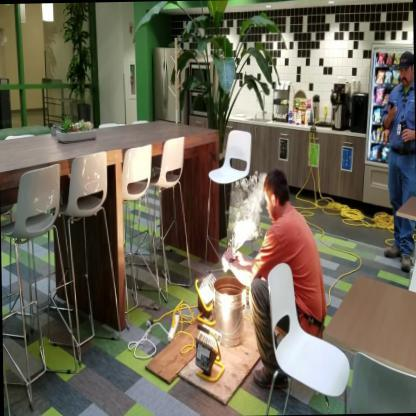smoke: (226, 165, 267, 250)
